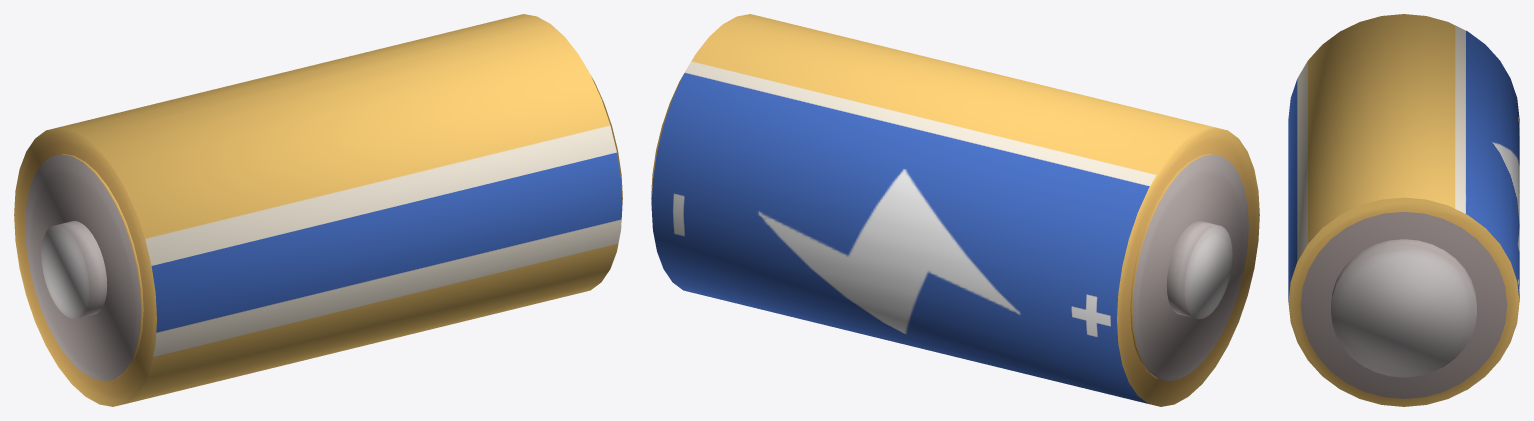
The model's file is battery1.fbx.
3 renders of one model, left to right at view 1: azimuth 30°, elevation 25°; view 2: azimuth 150°, elevation 25°; view 3: azimuth 270°, elevation 25°, orthographic. The views are drawn at different scales.
Visible parts, largest first — view 1: Cube; view 2: Cube; view 3: Cube.
Boxes of the visible parts, left/top/right/bottom form: Cube: left=14, top=14, right=622, bottom=406; Cube: left=651, top=14, right=1259, bottom=406; Cube: left=1288, top=14, right=1519, bottom=406.
Bounding box in the file's own units: 101 × 49.32 × 49.32.
Materials: 1 (1 with a texture image).
